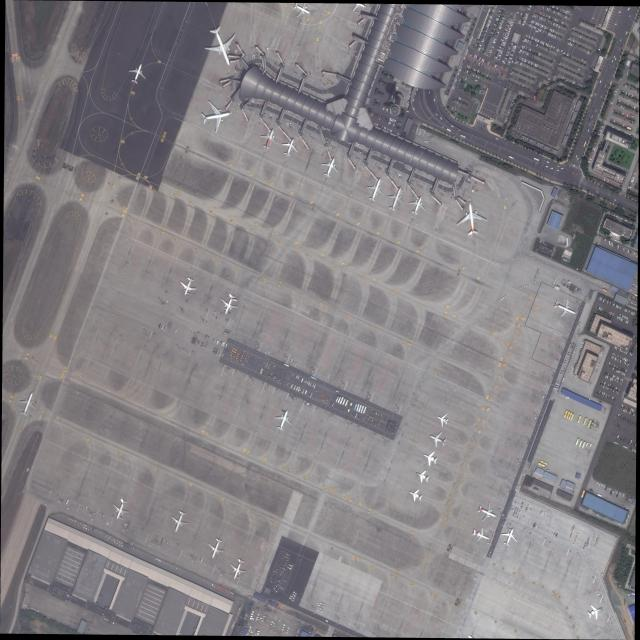plane: (199, 20, 243, 70), (454, 199, 490, 238), (197, 99, 232, 133), (12, 389, 41, 419), (362, 174, 389, 206), (166, 506, 193, 537), (550, 294, 578, 323), (123, 60, 151, 88), (473, 498, 500, 527), (271, 406, 297, 435), (203, 534, 229, 562), (108, 495, 134, 523), (225, 554, 251, 582), (255, 125, 281, 153), (316, 153, 342, 181), (404, 192, 430, 219), (384, 184, 408, 213), (217, 291, 242, 318), (176, 273, 201, 299), (279, 133, 301, 160), (469, 523, 492, 547), (420, 446, 441, 470), (427, 429, 448, 451), (585, 601, 605, 624), (405, 485, 426, 506), (433, 408, 452, 431), (413, 466, 433, 487), (289, 3, 313, 20), (501, 526, 518, 547)
